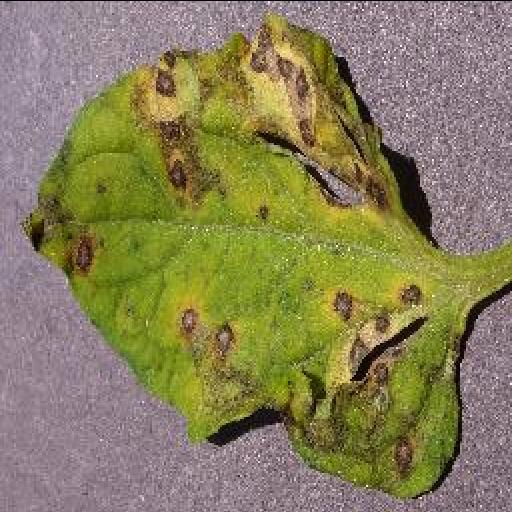disease_tomato: (20, 22, 460, 500)
